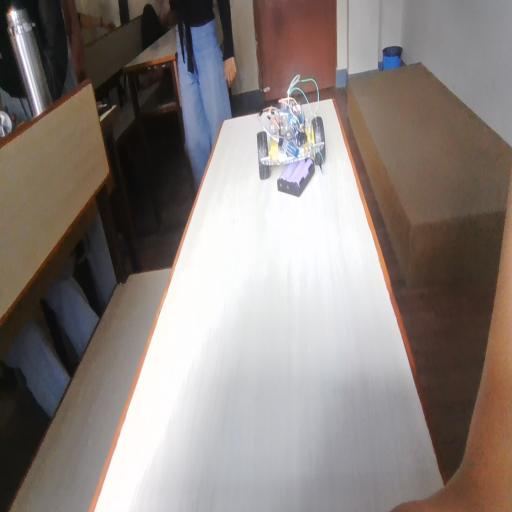car: (259, 81, 338, 175)
